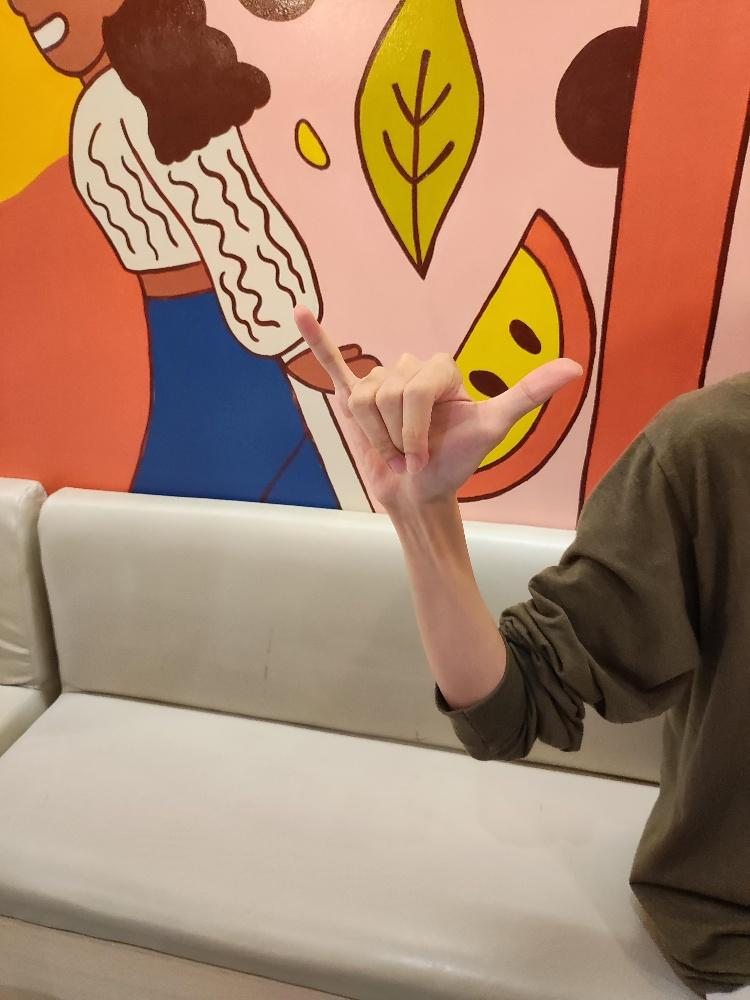y: (290, 298, 588, 506)
